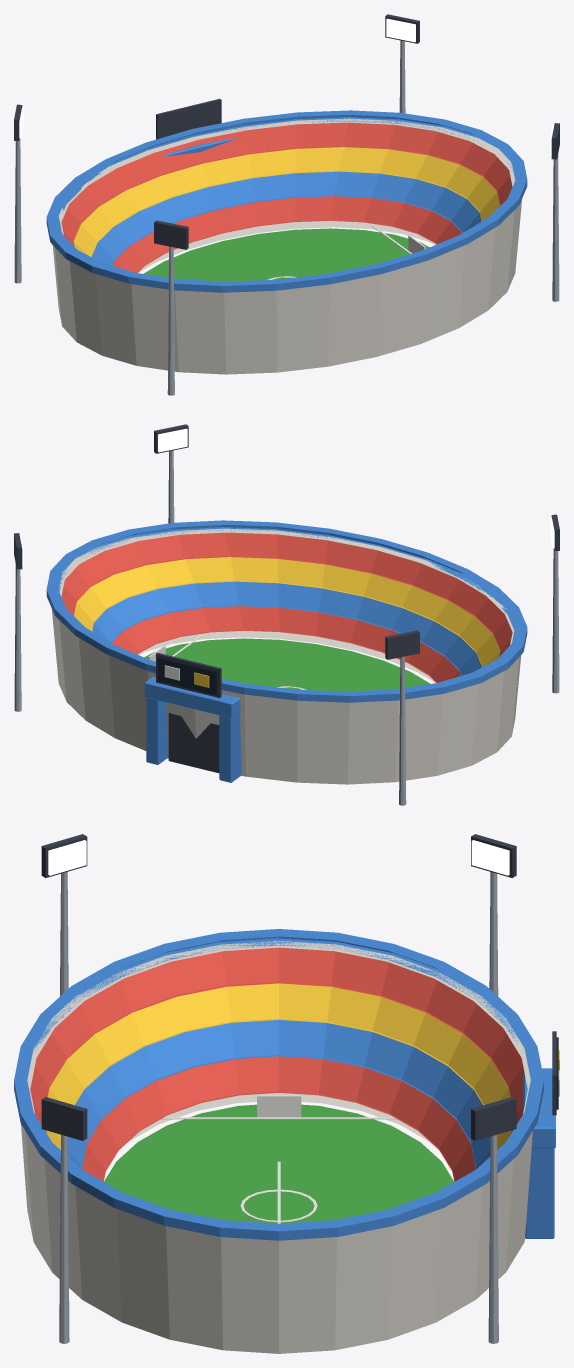
File: bld_stadium.glb
3 views of the same model, one above another, from view 1: azimuth 30°, elevation 25°; view 2: azimuth 150°, elevation 25°; view 3: azimuth 270°, elevation 25° (orthographic). The views are drawn at different scales.
Parts seen in each view (by area): view 1: bld_stadium; view 2: bld_stadium; view 3: bld_stadium.
Part boxes in pixels (box(x1,y1,x2,y2)): bld_stadium: box(14, 14, 559, 395); bld_stadium: box(14, 424, 559, 805); bld_stadium: box(14, 834, 559, 1353).
Size of the model in its own units: 48.33 by 17.7 by 36.87.
